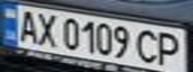0: (57, 15, 81, 52), (93, 20, 115, 56)
1: (78, 18, 96, 53)
9: (112, 24, 133, 60)
A: (15, 7, 42, 44)
C: (133, 27, 163, 64)
P: (151, 29, 187, 68)
X: (33, 10, 60, 47)
